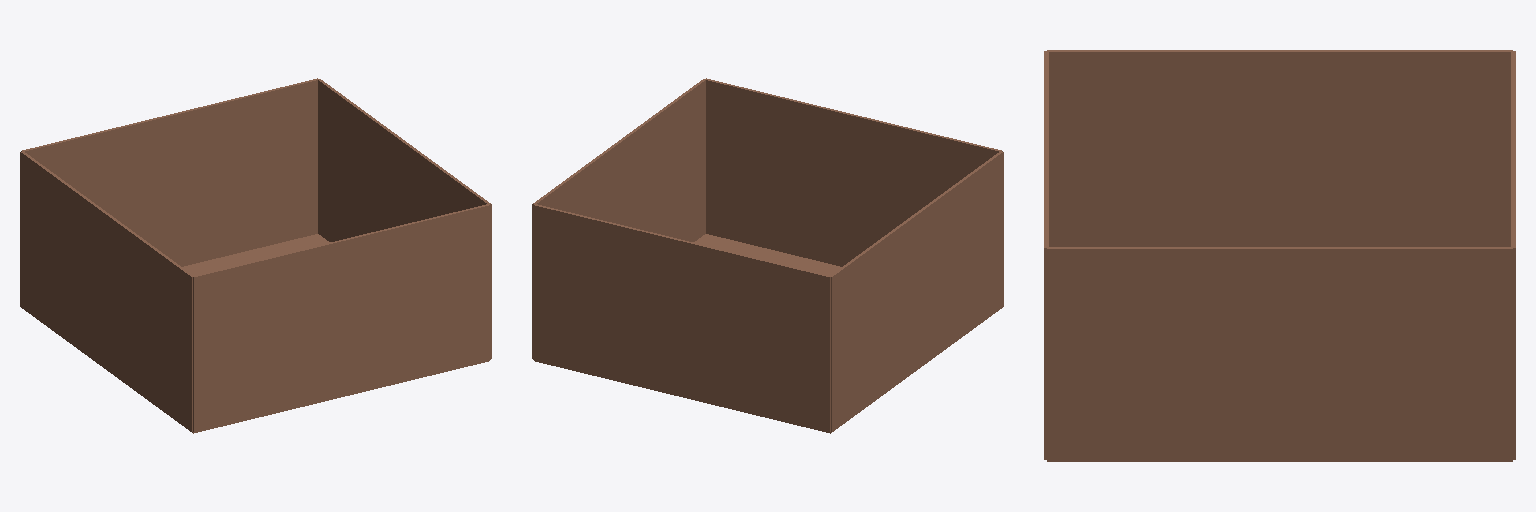
URDF robot description (container.urdf):
<?xml version="1.0" ?>
<robot name="container.urdf">
  <joint name="j1" type="fixed">
    <parent link="base_link" />
    <child link="side1" />
  </joint>
  <joint name="j2" type="fixed">
    <parent link="base_link" />
    <child link="side2" />
  </joint>
  <joint name="j3" type="fixed">
    <parent link="base_link" />
    <child link="side3" />
  </joint>
  <joint name="j4" type="fixed">
    <parent link="base_link" />
    <child link="side4" />
  </joint>

  <link name="base_link">
    <visual>
      <origin rpy="0 0 0" xyz="0 0 -0.05"/>
      <geometry>
        <box size="0.2 0.2 .002"/>
      </geometry>
      <material name="brown">
        <color rgba="0.61176471 0.45882353 0.37254902 1"/>
      </material>
    </visual>
    <collision>
      <origin rpy="0 0 0" xyz="0 0 -0.05"/>
      <geometry>
        <box size="0.2 0.2 .002"/>
      </geometry>
    </collision>
    </link>

  <link name="side1">
    <visual>
      <origin rpy="0 0 0" xyz="0 -0.1 0"/>
      <geometry>
        <box size="0.2 .002 0.1"/>
      </geometry>
      <material name="brown">
        <color rgba="0.61176471 0.45882353 0.37254902 1"/>
      </material>
    </visual>
    <collision>
      <origin rpy="0 0 0" xyz="0 -0.1 0"/>
      <geometry>
        <box size="0.2 .002 0.1"/>
      </geometry>
    </collision>
    </link>

  <link name="side2">
    <visual>
      <origin rpy="0 0 0" xyz="0 0.1 0"/>
      <geometry>
        <box size="0.2 .002 0.1"/>
      </geometry>
      <material name="brown">
        <color rgba="0.61176471 0.45882353 0.37254902 1"/>
      </material>
    </visual>
    <collision>
      <origin rpy="0 0 0" xyz="0 0.1 0"/>
      <geometry>
        <box size="0.2 .002 0.1"/>
      </geometry>
    </collision>
    </link>

  <link name="side3">
    <visual>
      <origin rpy="0 0 0" xyz="-0.1 0 0"/>
      <geometry>
        <box size=".002 0.2 0.1"/>
      </geometry>
      <material name="brown">
        <color rgba="0.61176471 0.45882353 0.37254902 1"/>
      </material>
    </visual>
    <collision>
      <origin rpy="0 0 0" xyz="-0.1 0 0"/>
      <geometry>
        <box size=".002 0.2 0.1"/>
      </geometry>
    </collision>
    </link>

  <link name="side4">
    <visual>
      <origin rpy="0 0 0" xyz="0.1 0 0"/>
      <geometry>
        <box size=".002 0.2 0.1"/>
      </geometry>
      <material name="brown">
        <color rgba="0.61176471 0.45882353 0.37254902 1"/>
      </material>
    </visual>
    <collision>
      <origin rpy="0 0 0" xyz="0.1 0 0"/>
      <geometry>
        <box size=".002 0.2 0.1"/>
      </geometry>
    </collision>
  </link>
</robot>

--- Render facts (derived) ---
3 views of the same robot in one strip: view 1: azimuth 30°, elevation 25°; view 2: azimuth 150°, elevation 25°; view 3: azimuth 270°, elevation 25° (orthographic).
Model container.urdf with 5 links and 4 joints (4 fixed), rooted at base_link, posed every joint at zero.
Links seen in each view (by area): view 1: side1, side2, side3, side4, base_link; view 2: side2, side1, side3, side4, base_link; view 3: side4, side3, side2, side1.
Link boxes in pixels (x1=…): side1: x1=193, y1=204, x2=490, y2=432; side2: x1=21, y1=78, x2=318, y2=266; side3: x1=20, y1=151, x2=192, y2=431; side4: x1=318, y1=79, x2=491, y2=358; base_link: x1=26, y1=234, x2=488, y2=433; side2: x1=533, y1=204, x2=830, y2=432; side1: x1=705, y1=78, x2=1002, y2=266; side3: x1=831, y1=151, x2=1003, y2=431; side4: x1=532, y1=79, x2=705, y2=358; base_link: x1=535, y1=234, x2=997, y2=433; side4: x1=1047, y1=247, x2=1512, y2=460; side3: x1=1047, y1=50, x2=1512, y2=246; side2: x1=1511, y1=51, x2=1515, y2=459; side1: x1=1044, y1=51, x2=1048, y2=459.
Bounding box of the posed robot: 0.202 × 0.202 × 0.101 m (x, y, z).
Geometry: primitives only (box / cylinder / sphere), no mesh files.
